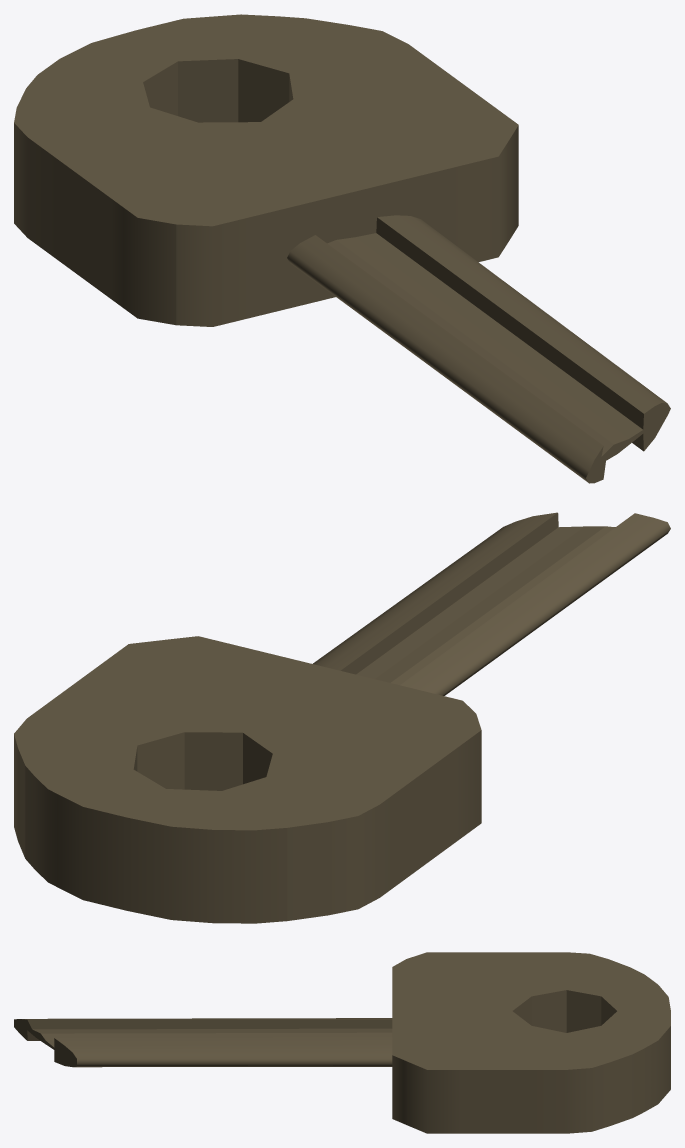
The model's file is Principal_Key.fbx.
3 renders of one model, top to bottom at view 1: azimuth 30°, elevation 25°; view 2: azimuth 150°, elevation 25°; view 3: azimuth 270°, elevation 25°, orthographic. The views are drawn at different scales.
Visible parts, largest first — view 1: pCube1, pCylinder1; view 2: pCube1, pCylinder1; view 3: pCube1, pCylinder1.
Part boxes in pixels (x1=…): pCube1: x1=14, y1=14, x2=518, y2=326; pCylinder1: x1=287, y1=215, x2=670, y2=483; pCube1: x1=14, y1=636, x2=481, y2=923; pCylinder1: x1=313, y1=512, x2=670, y2=695; pCube1: x1=392, y1=952, x2=670, y2=1133; pCylinder1: x1=14, y1=1018, x2=392, y2=1067.
Size of the model in its own units: 0.0503 by 0.0127 by 0.1187.
